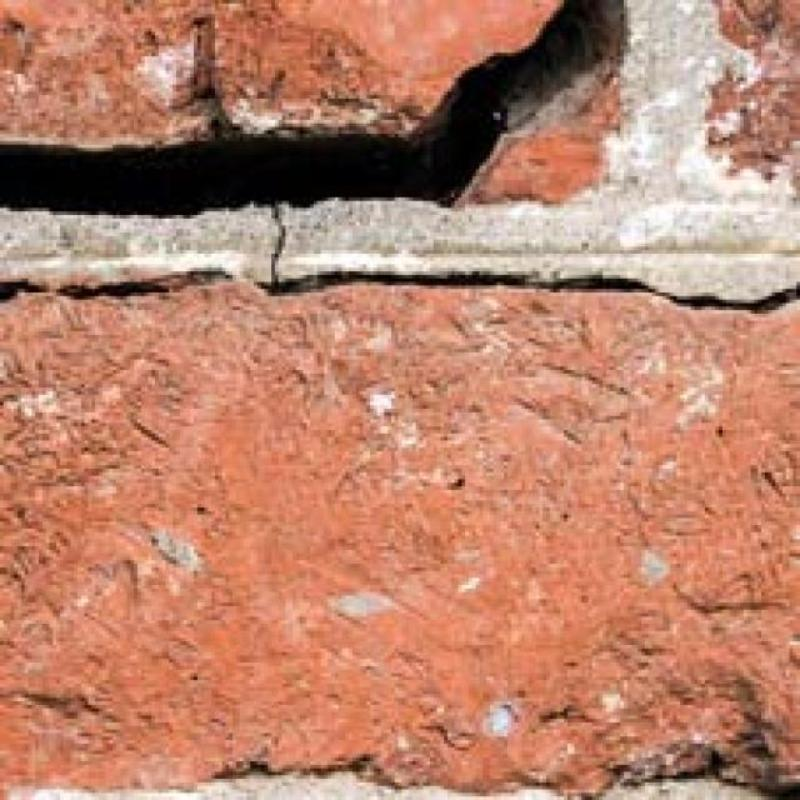crack: (0, 0, 623, 215), (256, 205, 800, 312), (0, 269, 238, 301)
